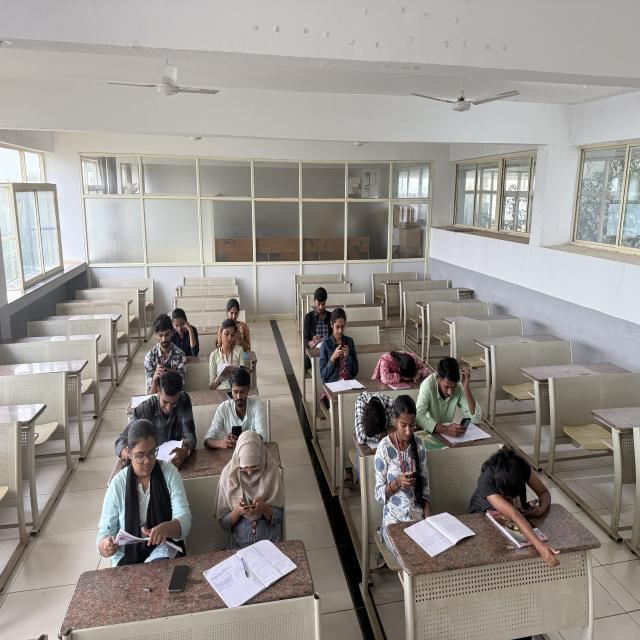Reading: (123, 415, 197, 549), (150, 374, 202, 462), (208, 327, 248, 385)
Sleeping: (446, 436, 552, 508), (346, 380, 401, 448), (372, 337, 436, 391)
Using Phone: (413, 326, 488, 434), (214, 432, 296, 530), (384, 395, 438, 503), (217, 369, 276, 448), (140, 312, 190, 388), (326, 306, 371, 374)
Writing: (296, 268, 340, 362)
